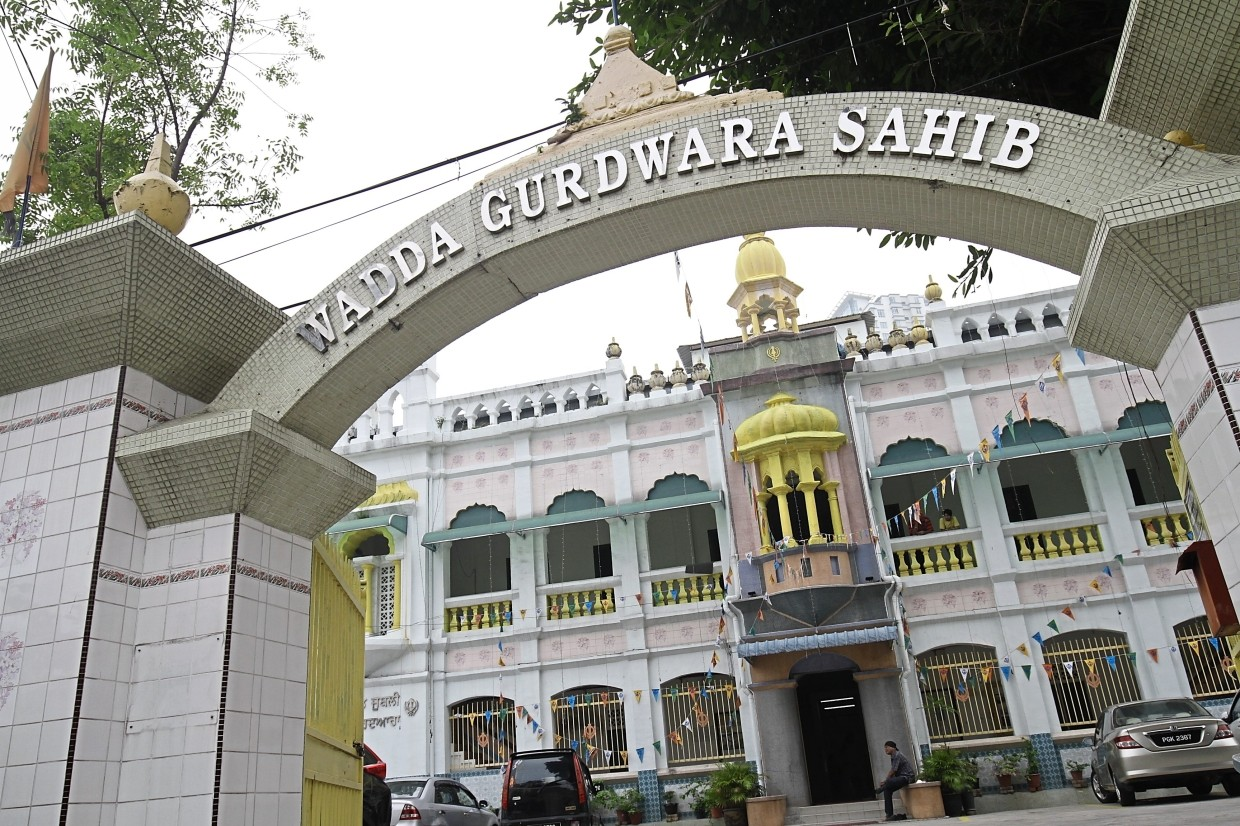Gurdwara: (31, 48, 1229, 749)
